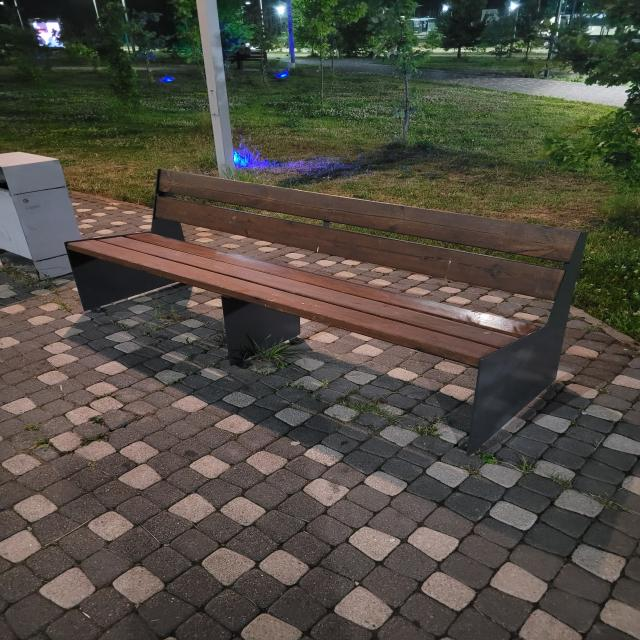Bench: (63, 168, 588, 455)
